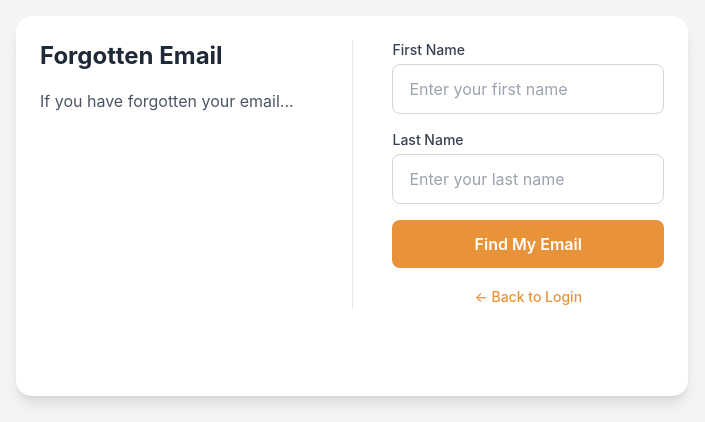
Test: ForgottenEmailPage › shows validation errors for empty fields
What coordinates should you click on to do the following:
click the button "Find My Email"
I would click on:
 (528, 244)
Its box is [392,220,664,268].
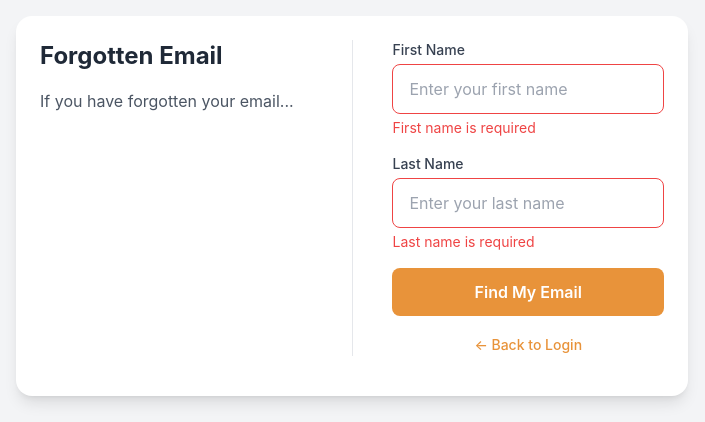
Expected: the text "First name is required" is shown, [392,119,536,136]
Expected: the text "Last name is required" is shown, [392,233,535,250]
